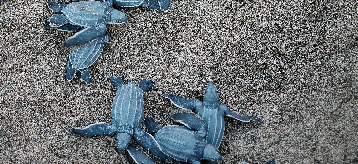turtle: (71, 76, 169, 161), (163, 80, 257, 149), (144, 112, 223, 164), (46, 1, 127, 47), (65, 31, 110, 84)
